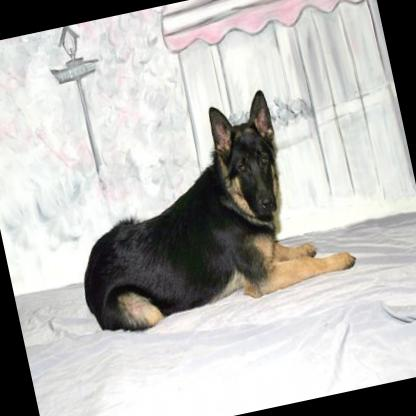German_shepherd: (49, 76, 361, 341)
